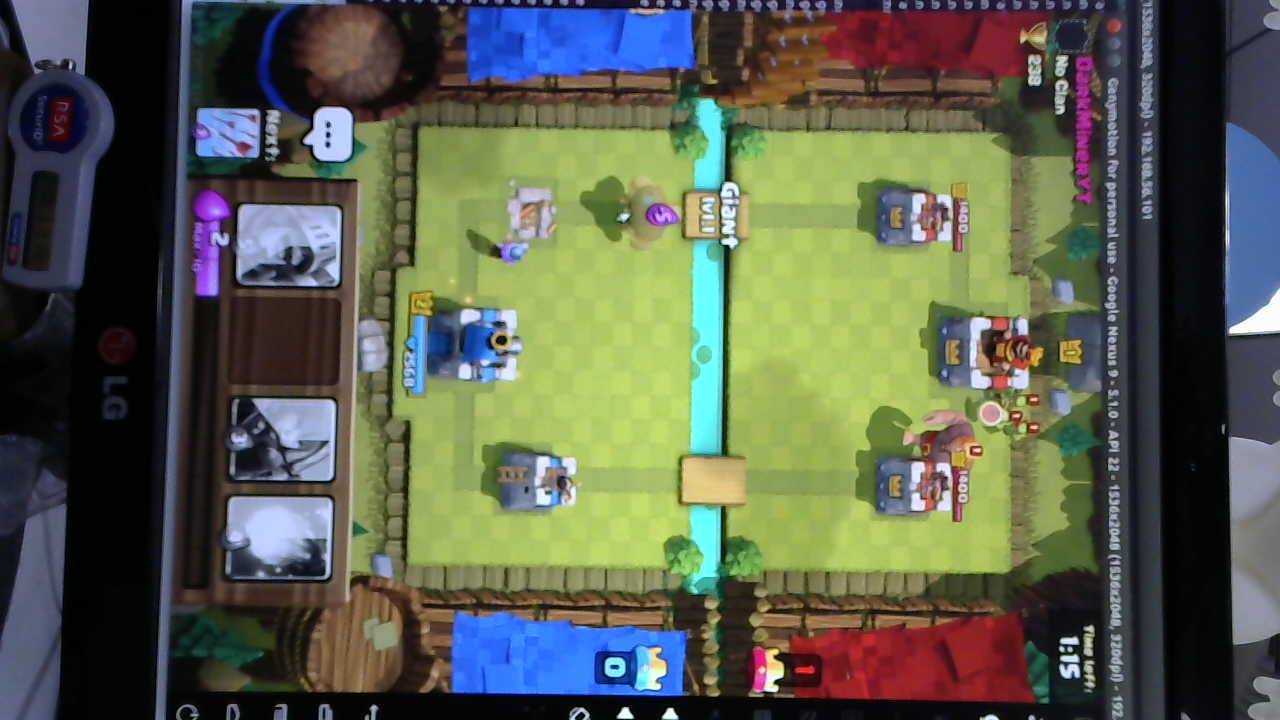arena: (502, 448, 580, 512)
darena: (502, 183, 564, 244)
earena: (875, 186, 955, 249), (876, 455, 956, 516)
eking: (935, 313, 1039, 393)
giant: (910, 406, 981, 473)
king: (427, 305, 524, 385)
musketeer: (485, 234, 534, 266)
